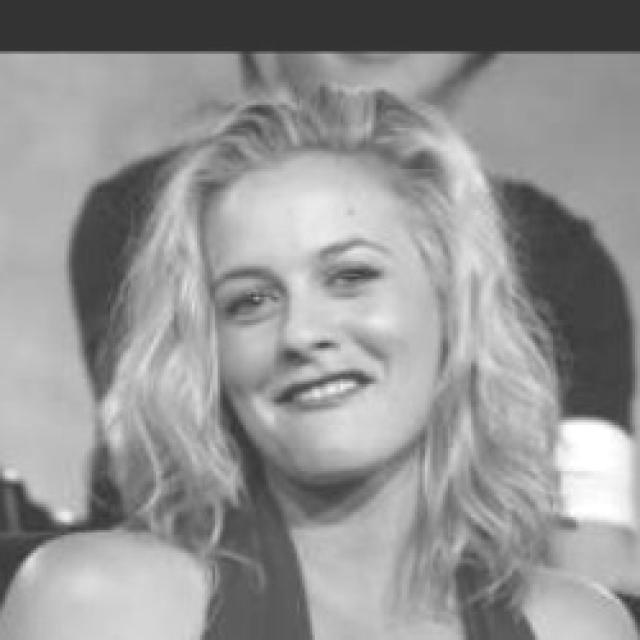real: (194, 147, 458, 488), (208, 253, 406, 329)
